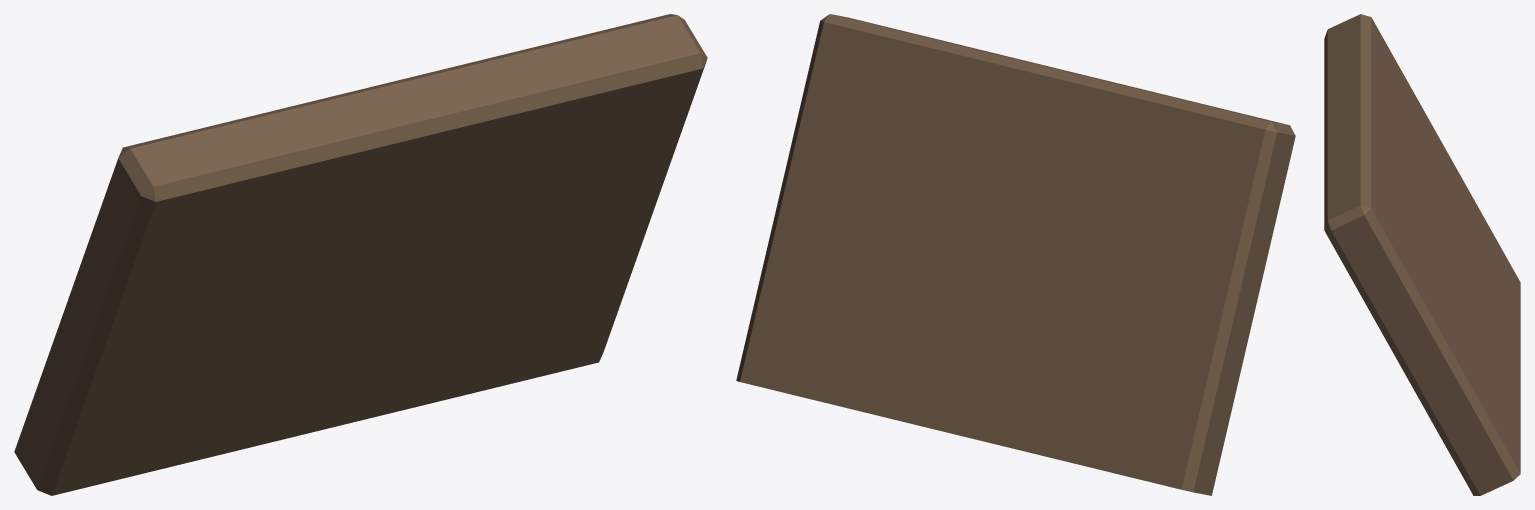
The model's file is Tesla_Door.fbx.
3 views of the same model, side by side, from view 1: azimuth 30°, elevation 25°; view 2: azimuth 150°, elevation 25°; view 3: azimuth 270°, elevation 25° (orthographic). The views are drawn at different scales.
Visible parts, largest first — view 1: pCube5; view 2: pCube5; view 3: pCube5.
Part boxes in pixels (x1,y1,x2,y2): pCube5: [14, 14, 707, 495]; pCube5: [736, 14, 1295, 495]; pCube5: [1324, 14, 1520, 495].
Size of the model in its own units: 79.92 by 54.59 by 33.47.
